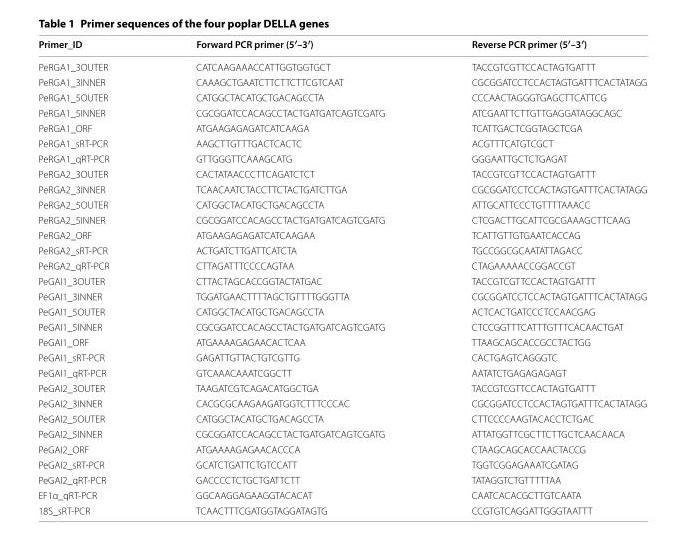table: (37, 37, 646, 515)
table column: (151, 37, 427, 515), (427, 37, 646, 515), (37, 37, 151, 515)
table column header: (37, 37, 646, 55)
table row: (37, 55, 646, 74), (37, 37, 646, 55), (37, 104, 646, 120), (37, 165, 646, 181), (37, 211, 646, 227), (37, 257, 646, 273), (37, 318, 646, 334), (37, 364, 646, 380), (37, 425, 646, 441), (37, 471, 646, 487), (37, 74, 646, 89), (37, 89, 646, 104), (37, 120, 646, 135), (37, 135, 646, 150), (37, 150, 646, 165), (37, 181, 646, 196), (37, 196, 646, 211), (37, 227, 646, 242), (37, 242, 646, 257), (37, 273, 646, 288), (37, 288, 646, 303), (37, 303, 646, 318), (37, 334, 646, 349), (37, 349, 646, 364), (37, 380, 646, 395), (37, 395, 646, 410), (37, 410, 646, 425), (37, 441, 646, 456), (37, 456, 646, 471), (37, 487, 646, 502), (37, 502, 646, 515)
